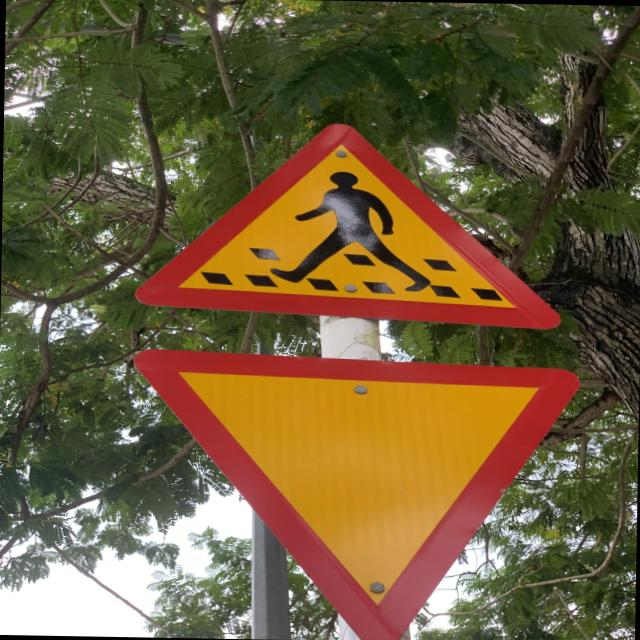Duong_Nguoi_Di_Bo_Sang_Ngang: (134, 116, 565, 330)
Gioi_Han_Toc_Do_25: (124, 345, 584, 640)
